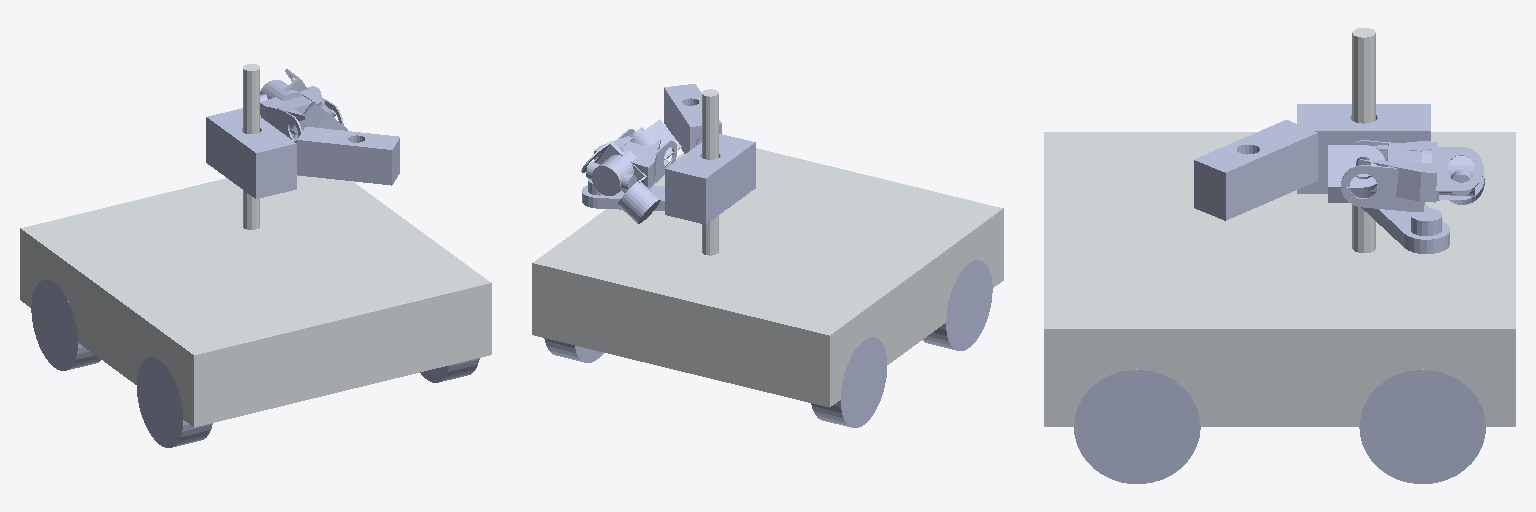
robot.urdf — rm26_arm:
<?xml version="1.0" encoding="utf-8"?>
<!-- This URDF was automatically created by SolidWorks to URDF Exporter! Originally created by Stephen Brawner (brawner@gmail.com) 
     Commit Version: 1.6.0-4-g7f85cfe  Build Version: 1.6.7995.38578
     For more information, please see http://wiki.ros.org/sw_urdf_exporter -->
<robot
  name="rm26_arm">
  <link
    name="base_link">
    <inertial>
      <origin
        xyz="0.00024619939328266 0.000497088298818357 0.150838930266798"
        rpy="0 0 0" />
      <mass
        value="122.092710334633" />
      <inertia
        ixx="3.7669452280776"
        ixy="-0.00317132797577637"
        ixz="-0.0064675591293208"
        iyy="3.441133324771"
        iyz="-0.0130583098611042"
        izz="6.7732794192064" />
    </inertial>
    <visual>
      <origin
        xyz="0 0 0"
        rpy="0 0 0" />
      <geometry>
        <mesh
          filename="package://GC3.1/meshes/base_link.STL" />
      </geometry>
      <material
        name="">
        <color
          rgba="0.898039215686275 0.917647058823529 0.929411764705882 1" />
      </material>
    </visual>
    <collision>
      <origin
        xyz="0 0 0"
        rpy="0 0 0" />
      <geometry>
        <mesh
          filename="package://GC3.1/meshes/base_link.STL" />
      </geometry>
    </collision>
  </link>
  <link
    name="wheel_link_1">
    <inertial>
      <origin
        xyz="0 1.38777878078145E-17 0.03"
        rpy="0 0 0" />
      <mass
        value="1.20637157897848" />
      <inertia
        ixx="0.00229210600005911"
        ixy="-1.05032085459533E-19"
        ixz="1.42099558356963E-20"
        iyy="0.00229210600005911"
        iyz="-4.78502541560294E-20"
        izz="0.00386038905273114" />
    </inertial>
    <visual>
      <origin
        xyz="0 0 0"
        rpy="0 0 0" />
      <geometry>
        <mesh
          filename="package://GC3.1/meshes/wheel_link_1.STL" />
      </geometry>
      <material
        name="">
        <color
          rgba="0.792156862745098 0.819607843137255 0.933333333333333 1" />
      </material>
    </visual>
    <collision>
      <origin
        xyz="0 0 0"
        rpy="0 0 0" />
      <geometry>
        <mesh
          filename="package://GC3.1/meshes/wheel_link_1.STL" />
      </geometry>
    </collision>
  </link>
  <joint
    name="wheel_1"
    type="revolute">
    <origin
      xyz="0.2935 -0.18 0.0799999999999999"
      rpy="-1.5707963267949 0 1.5707963267949" />
    <parent
      link="base_link" />
    <child
      link="wheel_link_1" />
    <axis
      xyz="0 0 -1" />
    <limit
      lower="-10"
      upper="10"
      effort="0"
      velocity="0" />
  </joint>
  <link
    name="wheel_link_2">
    <inertial>
      <origin
        xyz="0 1.38777878078145E-17 0.03"
        rpy="0 0 0" />
      <mass
        value="1.20637157897848" />
      <inertia
        ixx="0.00229210600005911"
        ixy="-1.05032085459533E-19"
        ixz="1.42099558356963E-20"
        iyy="0.00229210600005911"
        iyz="-4.78502541560294E-20"
        izz="0.00386038905273114" />
    </inertial>
    <visual>
      <origin
        xyz="0 0 0"
        rpy="0 0 0" />
      <geometry>
        <mesh
          filename="package://GC3.1/meshes/wheel_link_2.STL" />
      </geometry>
      <material
        name="">
        <color
          rgba="0.792156862745098 0.819607843137255 0.933333333333333 1" />
      </material>
    </visual>
    <collision>
      <origin
        xyz="0 0 0"
        rpy="0 0 0" />
      <geometry>
        <mesh
          filename="package://GC3.1/meshes/wheel_link_2.STL" />
      </geometry>
    </collision>
  </link>
  <joint
    name="wheel_2"
    type="revolute">
    <origin
      xyz="0.2935 0.18 0.0799999999999999"
      rpy="-1.5707963267949 0 1.5707963267949" />
    <parent
      link="base_link" />
    <child
      link="wheel_link_2" />
    <axis
      xyz="0 0 -1" />
    <limit
      lower="-10"
      upper="10"
      effort="0"
      velocity="0" />
  </joint>
  <link
    name="wheel_link_3">
    <inertial>
      <origin
        xyz="2.77555756156289E-17 0 -0.03"
        rpy="0 0 0" />
      <mass
        value="1.20637157897848" />
      <inertia
        ixx="0.00229210600005911"
        ixy="-2.74438674910393E-19"
        ixz="6.84200644599715E-20"
        iyy="0.00229210600005911"
        iyz="-7.4955308468167E-20"
        izz="0.00386038905273114" />
    </inertial>
    <visual>
      <origin
        xyz="0 0 0"
        rpy="0 0 0" />
      <geometry>
        <mesh
          filename="package://GC3.1/meshes/wheel_link_3.STL" />
      </geometry>
      <material
        name="">
        <color
          rgba="0.792156862745098 0.819607843137255 0.933333333333333 1" />
      </material>
    </visual>
    <collision>
      <origin
        xyz="0 0 0"
        rpy="0 0 0" />
      <geometry>
        <mesh
          filename="package://GC3.1/meshes/wheel_link_3.STL" />
      </geometry>
    </collision>
  </link>
  <joint
    name="wheel_3"
    type="revolute">
    <origin
      xyz="-0.2935 -0.18 0.0799999999999999"
      rpy="-1.5707963267949 0 1.5707963267949" />
    <parent
      link="base_link" />
    <child
      link="wheel_link_3" />
    <axis
      xyz="0 0 -1" />
    <limit
      lower="-10"
      upper="10"
      effort="0"
      velocity="0" />
  </joint>
  <link
    name="wheel_link_4">
    <inertial>
      <origin
        xyz="-2.77555756156289E-17 1.38777878078145E-17 -0.03"
        rpy="0 0 0" />
      <mass
        value="1.20637157897848" />
      <inertia
        ixx="0.00229210600005911"
        ixy="-1.3213713977167E-19"
        ixz="1.42099558356965E-20"
        iyy="0.00229210600005911"
        iyz="6.35985446824579E-21"
        izz="0.00386038905273114" />
    </inertial>
    <visual>
      <origin
        xyz="0 0 0"
        rpy="0 0 0" />
      <geometry>
        <mesh
          filename="package://GC3.1/meshes/wheel_link_4.STL" />
      </geometry>
      <material
        name="">
        <color
          rgba="0.792156862745098 0.819607843137255 0.933333333333333 1" />
      </material>
    </visual>
    <collision>
      <origin
        xyz="0 0 0"
        rpy="0 0 0" />
      <geometry>
        <mesh
          filename="package://GC3.1/meshes/wheel_link_4.STL" />
      </geometry>
    </collision>
  </link>
  <joint
    name="wheel_4"
    type="revolute">
    <origin
      xyz="-0.2935 0.18 0.0799999999999999"
      rpy="-1.5707963267949 0 1.5707963267949" />
    <parent
      link="base_link" />
    <child
      link="wheel_link_4" />
    <axis
      xyz="0 0 -1" />
    <limit
      lower="-10"
      upper="10"
      effort="0"
      velocity="0" />
  </joint>
  <link
    name="line_link">
    <inertial>
      <origin
        xyz="6.24500451351651E-17 5.55111512312578E-17 -0.0434999999998822"
        rpy="0 0 0" />
      <mass
        value="1.09949619073592" />
      <inertia
        ixx="0.0035366386494099"
        ixy="-6.14340759450751E-19"
        ixz="-7.2280144832367E-20"
        iyy="0.0013181386494099"
        iyz="-7.2280144832367E-20"
        izz="0.00346776285420644" />
    </inertial>
    <visual>
      <origin
        xyz="0 0 0"
        rpy="0 0 0" />
      <geometry>
        <mesh
          filename="package://GC3.1/meshes/line_link.STL" />
      </geometry>
      <material
        name="">
        <color
          rgba="0.792156862745098 0.819607843137255 0.933333333333333 1" />
      </material>
    </visual>
    <collision>
      <origin
        xyz="0 0 0"
        rpy="0 0 0" />
      <geometry>
        <mesh
          filename="package://GC3.1/meshes/line_link.STL" />
      </geometry>
    </collision>
  </link>
  <joint
    name="line"
    type="prismatic">
    <origin
      xyz="0.0524999999999999 0.106 0.216"
      rpy="3.14159265358979 0 0" />
    <parent
      link="base_link" />
    <child
      link="line_link" />
    <axis
      xyz="0 0 -1" />
    <limit
      lower="0"
      upper="0.38"
      effort="0"
      velocity="0" />
  </joint>
  <link
    name="link_1">
    <inertial>
      <origin
        xyz="0.0699746284045319 0.0829040894919596 0.00818462866097153"
        rpy="0 0 0" />
      <mass
        value="0.298000879113616" />
      <inertia
        ixx="0.000887595684206338"
        ixy="-0.000661845402714015"
        ixz="2.87914612382839E-05"
        iyy="0.000662084826349691"
        iyz="3.41113619825736E-05"
        izz="0.00150941735277171" />
    </inertial>
    <visual>
      <origin
        xyz="0 0 0"
        rpy="0 0 0" />
      <geometry>
        <mesh
          filename="package://GC3.1/meshes/link_1.STL" />
      </geometry>
      <material
        name="">
        <color
          rgba="0.792156862745098 0.819607843137255 0.933333333333333 1" />
      </material>
    </visual>
    <collision>
      <origin
        xyz="0 0 0"
        rpy="0 0 0" />
      <geometry>
        <mesh
          filename="package://GC3.1/meshes/link_1.STL" />
      </geometry>
    </collision>
  </link>
  <joint
    name="J1"
    type="revolute">
    <origin
      xyz="0 0 -0.106999999999882"
      rpy="0 0 0" />
    <parent
      link="line_link" />
    <child
      link="link_1" />
    <axis
      xyz="0 0 -1" />
    <limit
      lower="-0.52"
      upper="1.91"
      effort="0"
      velocity="0" />
  </joint>
  <link
    name="link_2">
    <inertial>
      <origin
        xyz="0.000101291482748511 0.015286092187136 8.88178419700125E-16"
        rpy="0 0 0" />
      <mass
        value="0.583986828997619" />
      <inertia
        ixx="0.00169487816875989"
        ixy="-8.71689003396192E-06"
        ixz="-3.31818450803798E-20"
        iyy="0.000379453314837419"
        iyz="-4.51726124075939E-19"
        izz="0.00163912949589205" />
    </inertial>
    <visual>
      <origin
        xyz="0 0 0"
        rpy="0 0 0" />
      <geometry>
        <mesh
          filename="package://GC3.1/meshes/link_2.STL" />
      </geometry>
      <material
        name="">
        <color
          rgba="0.792156862745098 0.819607843137255 0.933333333333333 1" />
      </material>
    </visual>
    <collision>
      <origin
        xyz="0 0 0"
        rpy="0 0 0" />
      <geometry>
        <mesh
          filename="package://GC3.1/meshes/link_2.STL" />
      </geometry>
    </collision>
  </link>
  <joint
    name="J2"
    type="revolute">
    <origin
      xyz="0.1232 0.14596 -0.0545"
      rpy="3.1416 0 0" />
    <parent
      link="link_1" />
    <child
      link="link_2" />
    <axis
      xyz="0 0 -1" />
    <limit
      lower="-0.52"
      upper="2.61"
      effort="0"
      velocity="0" />
  </joint>
  <link
    name="link_3">
    <inertial>
      <origin
        xyz="-0.000112221467595153 -4.04046340157782E-06 -0.0351943560446648"
        rpy="0 0 0" />
      <mass
        value="0.222871773788512" />
      <inertia
        ixx="0.000148973654486171"
        ixy="-6.92995470278619E-07"
        ixz="-2.82765433133498E-07"
        iyy="0.000168196240575477"
        iyz="-1.01807916911651E-08"
        izz="0.000135435749225931" />
    </inertial>
    <visual>
      <origin
        xyz="0 0 0"
        rpy="0 0 0" />
      <geometry>
        <mesh
          filename="package://GC3.1/meshes/link_3.STL" />
      </geometry>
      <material
        name="">
        <color
          rgba="0.792156862745098 0.819607843137255 0.933333333333333 1" />
      </material>
    </visual>
    <collision>
      <origin
        xyz="0 0 0"
        rpy="0 0 0" />
      <geometry>
        <mesh
          filename="package://GC3.1/meshes/link_3.STL" />
      </geometry>
    </collision>
  </link>
  <joint
    name="J3"
    type="revolute">
    <origin
      xyz="0.000655997394275049 0.0989978265792674 0"
      rpy="1.5707963267949 0 -0.00662628479646784" />
    <parent
      link="link_2" />
    <child
      link="link_3" />
    <axis
      xyz="0 0 -1" />
    <limit
      lower="-3.14"
      upper="3.14"
      effort="0"
      velocity="0" />
  </joint>
  <link
    name="link_4">
    <inertial>
      <origin
        xyz="0.00927688316747438 0.0521485474000727 -9.68669588985449E-15"
        rpy="0 0 0" />
      <mass
        value="0.263988174644703" />
      <inertia
        ixx="0.000252104193590036"
        ixy="-4.11249628033574E-06"
        ixz="1.11239248776131E-19"
        iyy="0.000229718025137513"
        iyz="4.7857361519868E-20"
        izz="0.000164335442331244" />
    </inertial>
    <visual>
      <origin
        xyz="0 0 0"
        rpy="0 0 0" />
      <geometry>
        <mesh
          filename="package://GC3.1/meshes/link_4.STL" />
      </geometry>
      <material
        name="">
        <color
          rgba="0.792156862745098 0.819607843137255 0.933333333333333 1" />
      </material>
    </visual>
    <collision>
      <origin
        xyz="0 0 0"
        rpy="0 0 0" />
      <geometry>
        <mesh
          filename="package://GC3.1/meshes/link_4.STL" />
      </geometry>
    </collision>
  </link>
  <joint
    name="J4"
    type="revolute">
    <origin
      xyz="-0.000499676236049573 -1.79905288163473E-05 -0.0465000000000025"
      rpy="-1.5707963267949 0.182122404429995 -1.53480750090966" />
    <parent
      link="link_3" />
    <child
      link="link_4" />
    <axis
      xyz="0 0 -1" />
    <limit
      lower="0"
      upper="1.57"
      effort="0"
      velocity="0" />
  </joint>
  <link
    name="link_5">
    <inertial>
      <origin
        xyz="0.0461756846205636 0.00291203605391455 -0.0326248381080221"
        rpy="0 0 0" />
      <mass
        value="0.168966963377511" />
      <inertia
        ixx="9.75984952536745E-05"
        ixy="-1.18407647751363E-05"
        ixz="6.14433141541748E-05"
        iyy="0.000284608857546573"
        iyz="3.8748780350216E-06"
        izz="0.000264912746004824" />
    </inertial>
    <visual>
      <origin
        xyz="0 0 0"
        rpy="0 0 0" />
      <geometry>
        <mesh
          filename="package://GC3.1/meshes/link_5.STL" />
      </geometry>
      <material
        name="">
        <color
          rgba="0.792156862745098 0.819607843137255 0.933333333333333 1" />
      </material>
    </visual>
    <collision>
      <origin
        xyz="0 0 0"
        rpy="0 0 0" />
      <geometry>
        <mesh
          filename="package://GC3.1/meshes/link_5.STL" />
      </geometry>
    </collision>
  </link>
  <joint
    name="J5"
    type="revolute">
    <origin
      xyz="0.0145369266962608 0.0817170591873439 0"
      rpy="1.57079632679489 -1.53476796314872 -0.176051717388886" />
    <parent
      link="link_4" />
    <child
      link="link_5" />
    <axis
      xyz="0 0 -1" />
    <limit
      lower="-1.39"
      upper="4.36"
      effort="0"
      velocity="0" />
  </joint>
  <link
    name="link_6">
    <!-- 2026-10-17: 夹爪换成 GC4_1014 导出的 60 mm 开口版。 网格/惯量从 GC4 的 link_6 系换到这里:
         p_本系 = Rz(-199.654680°) · p_GC4 (GC4 导出时 J3~J6 零位与本文件不同, 零件本身只改了夹爪)。
         2026-10-19: ~/GC3.1_1019/meshes/link_6.STL 已按同一变换换成 GC4 夹爪; 仿真用 meshes/link_6.obj。 -->
    <inertial>
      <origin
        xyz="0.005800706194 0.033486006446 0.043000047794"
        rpy="0 0 0" />
      <mass
        value="0.318868553763684" />
      <inertia
        ixx="0.000568951044835"
        ixy="-4.63193569489E-05"
        ixz="3.10282755295E-10"
        iyy="0.000309581390274"
        iyz="1.0747374199E-10"
        izz="0.000383194491057" />
    </inertial>
    <visual>
      <origin
        xyz="0 0 0"
        rpy="0 0 0" />
      <geometry>
        <mesh
          filename="package://GC3.1/meshes/link_6.STL" />
      </geometry>
      <material
        name="">
        <color
          rgba="0.792156862745098 0.819607843137255 0.933333333333333 1" />
      </material>
    </visual>
    <collision>
      <origin
        xyz="0 0 0"
        rpy="0 0 0" />
      <geometry>
        <mesh
          filename="package://GC3.1/meshes/link_6.STL" />
      </geometry>
    </collision>
  </link>
  <joint
    name="J6"
    type="revolute">
    <origin
      xyz="-0.0429147465036577 -0.00270638735710615 -0.040500000000001"
      rpy="-1.5707963267949 0.101460063365565 -1.50781545764258" />
    <parent
      link="link_5" />
    <child
      link="link_6" />
    <axis
      xyz="0 0 -1" />
    <limit
      lower="-1.57"
      upper="1.57"
      effort="0"
      velocity="0" />
  </joint>
  <!-- 以下两个是规划用的虚拟系 (无几何/惯量), 不改变任何关节定义。 数值来源: config/sim.yaml、config/planning.yaml -->
  <!-- arm_base: 原点在 J1 轴上, z 朝上, x 朝车头 (base_link +x); 随升降 line 移动。 = line_link_T_arm_base (sim.yaml) -->
  <link
    name="arm_base" />
  <joint
    name="arm_base_joint"
    type="fixed">
    <origin
      xyz="0 0 -0.107"
      rpy="3.14159265358979 0 0" />
    <parent
      link="line_link" />
    <child
      link="arm_base" />
  </joint>
  <!-- tcp: 两爪中间的夹持点, 姿态同 DH 第 6 系 (x = 插入方向)。
       = inv(frame6_T_link6) · Trans(tcp_offset_6_tcp), tcp_offset_6_tcp = [0.00253, -0.08154, -0.04380] 仍待实测 -->
  <link
    name="tcp" />
  <joint
    name="tcp_joint"
    type="fixed">
    <origin
      xyz="0.00253 0.08154 0.0438"
      rpy="3.14159265358979 0 0" />
    <parent
      link="link_6" />
    <child
      link="tcp" />
  </joint>
</robot>

--- What the picture shows (computed from the rendered views, not written in the file) ---
The picture shows the robot from 3 angles, left to right: view 1: azimuth 30°, elevation 25°; view 2: azimuth 150°, elevation 25°; view 3: azimuth 270°, elevation 25°; orthographic projection.
Model rm26_arm with 14 links and 13 joints (10 revolute, 1 prismatic, 2 fixed), rooted at base_link, posed all joints at 0.
Links seen in each view (by area): view 1: base_link, line_link, link_2, wheel_link_3, wheel_link_4, link_6, link_3, link_4, wheel_link_1; view 2: base_link, line_link, wheel_link_4, wheel_link_3, link_6, link_2, link_5, link_1, link_3, link_4, wheel_link_2; view 3: base_link, wheel_link_1, wheel_link_2, link_2, line_link, link_6, link_4, link_1, link_3, link_5.
Boxes of the visible links, <box> form: base_link: <box>20,64,491,427</box>; line_link: <box>206,108,296,198</box>; link_2: <box>297,127,399,185</box>; wheel_link_3: <box>137,357,212,447</box>; wheel_link_4: <box>31,280,100,370</box>; link_6: <box>260,80,323,133</box>; link_3: <box>291,102,347,140</box>; link_4: <box>277,96,343,142</box>; wheel_link_1: <box>420,358,479,382</box>; base_link: <box>532,89,1003,407</box>; line_link: <box>665,134,755,224</box>; wheel_link_4: <box>811,337,886,427</box>; wheel_link_3: <box>923,260,992,350</box>; link_6: <box>586,135,660,195</box>; link_2: <box>664,84,721,153</box>; link_5: <box>581,141,660,223</box>; link_1: <box>582,179,664,210</box>; link_3: <box>630,119,681,165</box>; link_4: <box>617,129,676,188</box>; wheel_link_2: <box>544,338,603,362</box>; base_link: <box>1044,28,1515,426</box>; wheel_link_1: <box>1074,369,1200,483</box>; wheel_link_2: <box>1359,369,1485,483</box>; link_2: <box>1194,120,1317,220</box>; line_link: <box>1297,104,1430,193</box>; link_6: <box>1358,141,1474,202</box>; link_4: <box>1341,140,1424,211</box>; link_1: <box>1361,204,1449,253</box>; link_3: <box>1328,145,1384,202</box>; link_5: <box>1432,147,1484,204</box>.
Size in the robot's own frame: 0.587 by 0.594 by 0.5158 metres.
Meshes: 12 distinct files referenced, 12 mesh visuals loaded (12 binary STL).
